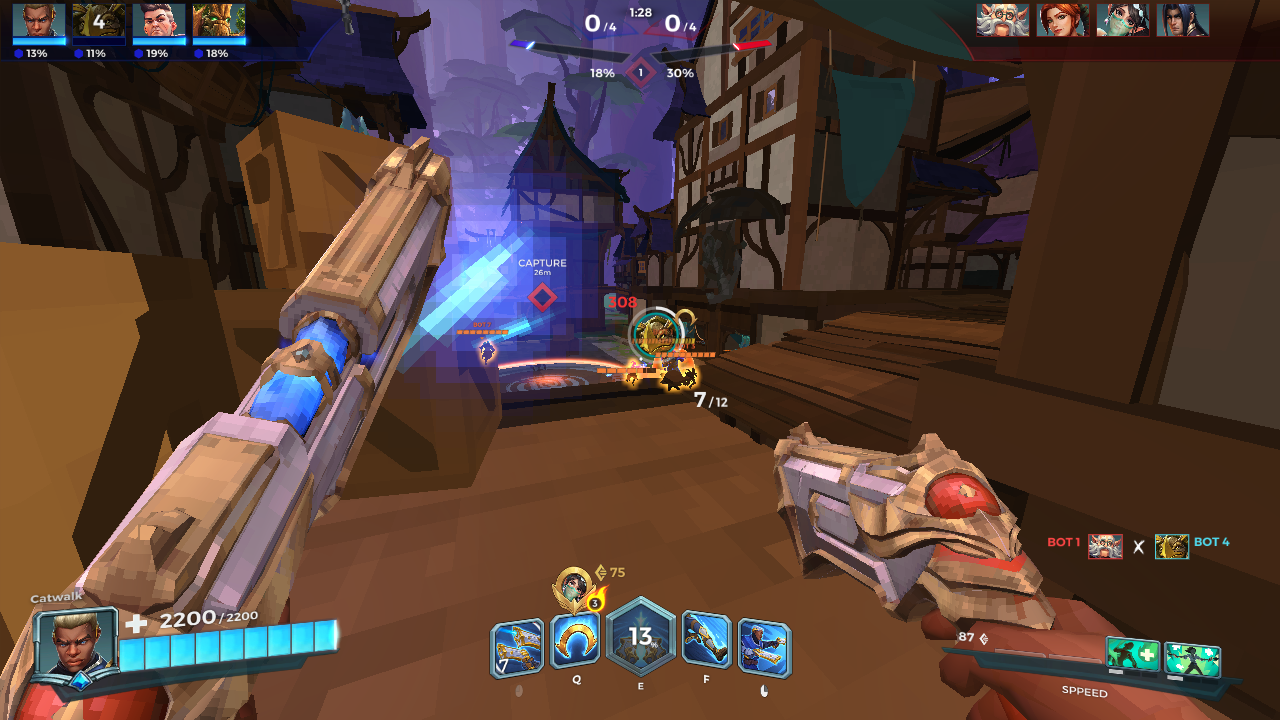model: (650, 345, 687, 402), (476, 333, 502, 367)
